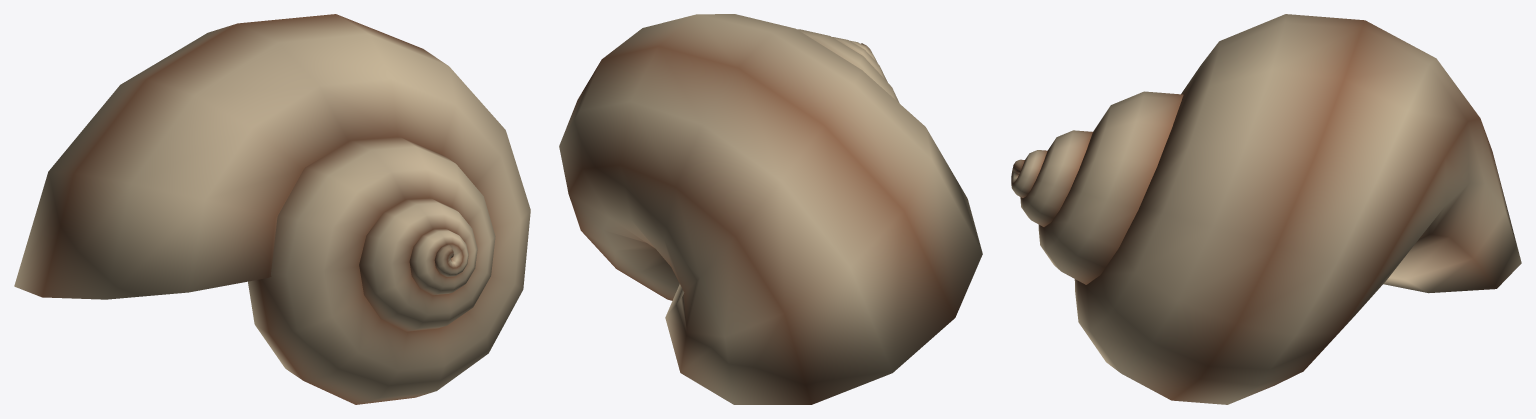
Rendered from Yadokari.fbx.
3 views of the same model, side by side, from view 1: azimuth 30°, elevation 25°; view 2: azimuth 150°, elevation 25°; view 3: azimuth 270°, elevation 25° (orthographic). The views are drawn at different scales.
Visible parts, largest first — view 1: Yadokari; view 2: Yadokari; view 3: Yadokari.
Part boxes in pixels (left/top/right/bottom): Yadokari: left=14, top=14, right=530, bottom=404; Yadokari: left=559, top=14, right=982, bottom=404; Yadokari: left=1011, top=14, right=1521, bottom=404.
Bounding box in the file's own units: 0.7065 × 0.5274 × 0.729.
